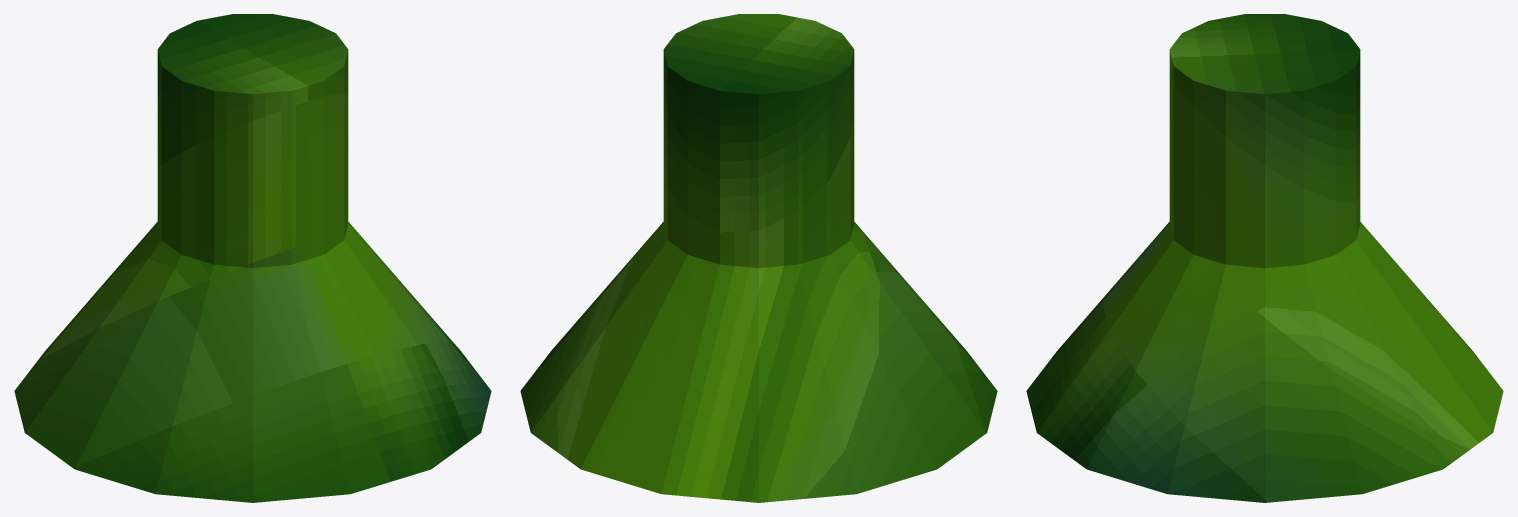
The model's file is lampe01.glb.
3 renders of one model, left to right at view 1: azimuth 30°, elevation 25°; view 2: azimuth 150°, elevation 25°; view 3: azimuth 270°, elevation 25°, orthographic.
Size of the model in its own units: 0.9891 by 0.8 by 0.9945.
Materials: 3 (3 with a texture image).
